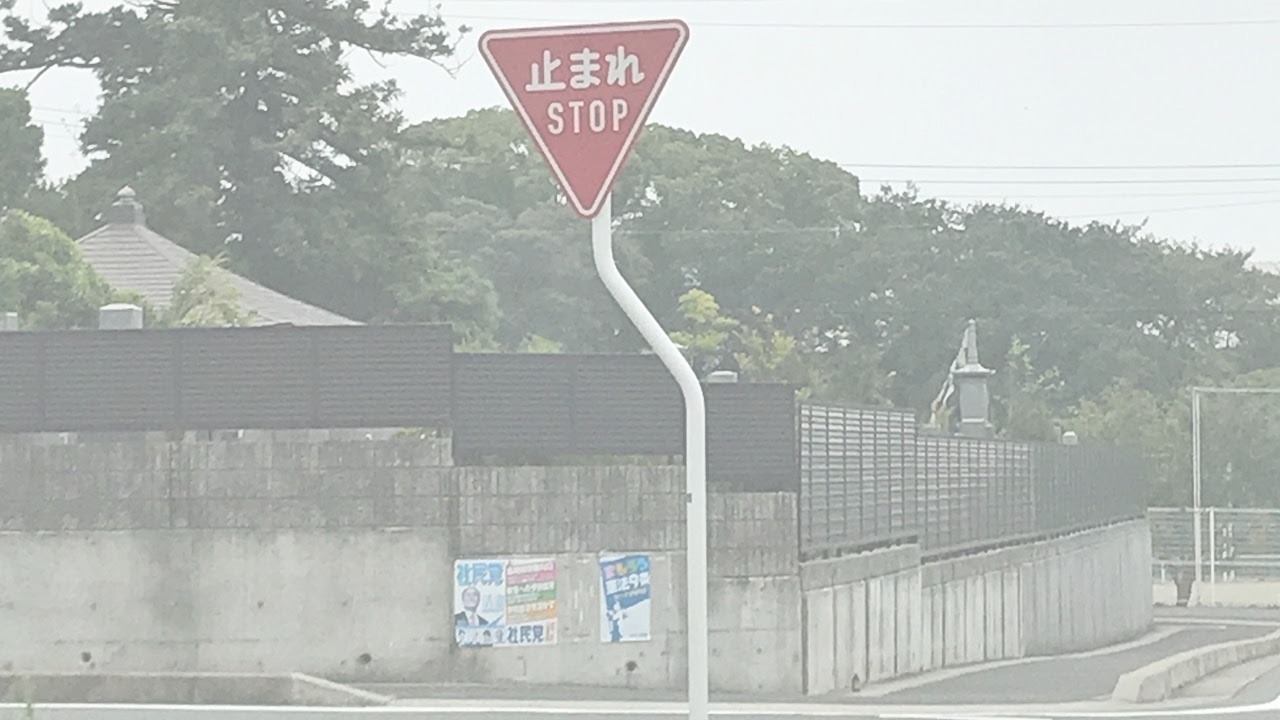Regulatory_sign_triangle: (465, 21, 693, 217)
